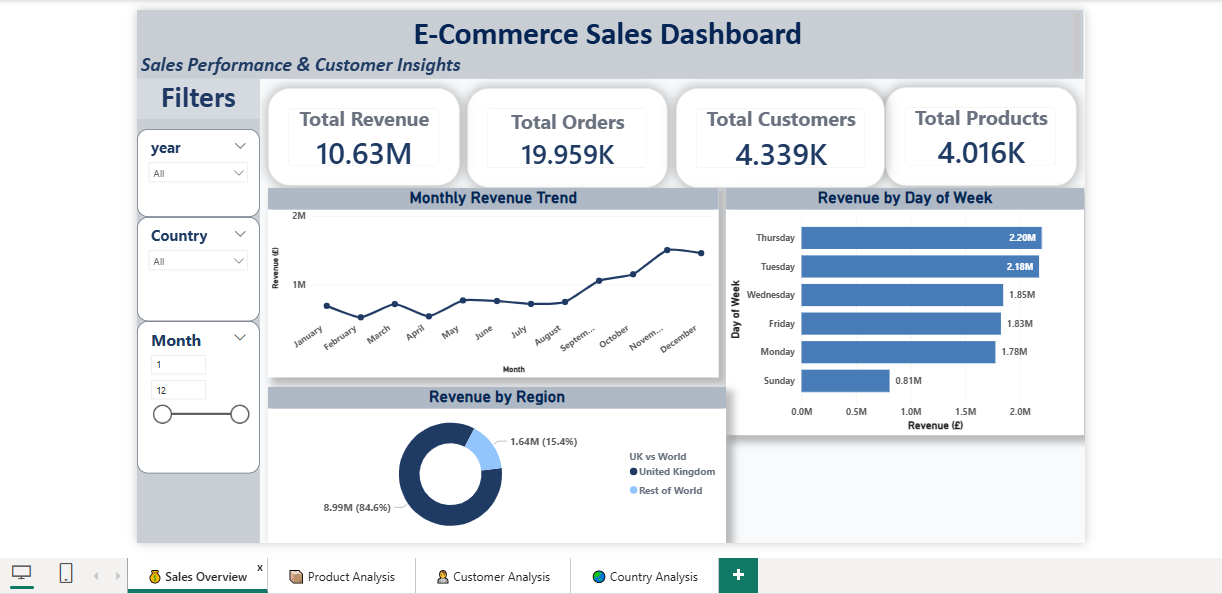

This screenshot's page, from the dashboard's own definition file:
{"tool":"powerbi","page":{"name":"💰 Sales Overview","canvas":[1280,720],"ordinal":0},"visuals":[{"type":"cardVisual","fields":{"Data":["Count(sales dateset.invoiceno)"]},"box":[445.6,105.9,270.6,135.3],"z":0},{"type":"cardVisual","title":"Total Revenue","fields":{"Data":["sales dateset.Total Revenue"]},"box":[176.5,105.9,258.8,132.4],"z":1000},{"type":"cardVisual","fields":{"Data":["Count(sales dateset.description)"]},"box":[1010.3,104.4,258.8,133.8],"z":2000},{"type":"cardVisual","fields":{"Data":["Count(sales dateset.customerid)"]},"box":[727.9,105.9,282.4,135.3],"z":3000},{"type":"lineChart","title":"Monthly Revenue Trend","fields":{"Category":["sales dateset.month_year.Variation.Date Hierarchy.Year","sales dateset.month_year.Variation.Date Hierarchy.Quarter","sales dateset.month_year.Variation.Date Hierarchy.Month"],"Y":["Sum(sales dateset.total_price)"]},"box":[176.5,241.2,608.8,255.9],"z":4000},{"type":"barChart","title":"Revenue by Day of Week","fields":{"Y":["Sum(sales dateset.total_price)"],"Category":["sales dateset.day_of_week"]},"box":[795.6,241.2,483.8,333.8],"z":5000},{"type":"donutChart","title":"Revenue by Region","fields":{"Y":["Sum(sales dateset.total_price)"],"Category":["sales dateset.UK_vs_World"]},"box":[176.5,508.8,619.1,211.8],"z":6000},{"type":"textbox","box":[0,0,1279.4,92.6],"z":7000},{"type":"textbox","title":"Filters","box":[0,92.6,166.2,627.9],"z":8000},{"type":"slicer","fields":{"Values":["sales dateset.year"]},"box":[0,160.3,166.2,119.1],"z":9000},{"type":"slicer","fields":{"Values":["sales dateset.month"]},"box":[0,420.6,166.2,205.9],"z":10000},{"type":"slicer","fields":{"Values":["sales dateset.country"]},"box":[0,279.4,166.2,141.2],"z":11000}]}

Visuals, with their boxes on the page's 1280x720 design canvas (x1, y1, x2, y2). These are canvas units, not pixel positions in the 1222x594 screenshot, which may show the page scaled, cropped or inside an application window:
cardVisual - Count(sales dateset.invoiceno): (x1=446, y1=106, x2=716, y2=241)
"Total Revenue" cardVisual: (x1=176, y1=106, x2=435, y2=238)
cardVisual - Count(sales dateset.description): (x1=1010, y1=104, x2=1269, y2=238)
cardVisual - Count(sales dateset.customerid): (x1=728, y1=106, x2=1010, y2=241)
"Monthly Revenue Trend" lineChart: (x1=176, y1=241, x2=785, y2=497)
"Revenue by Day of Week" barChart: (x1=796, y1=241, x2=1279, y2=575)
"Revenue by Region" donutChart: (x1=176, y1=509, x2=796, y2=721)
textbox: (x1=0, y1=0, x2=1279, y2=93)
"Filters" textbox: (x1=0, y1=93, x2=166, y2=720)
slicer - sales dateset.year: (x1=0, y1=160, x2=166, y2=279)
slicer - sales dateset.month: (x1=0, y1=421, x2=166, y2=626)
slicer - sales dateset.country: (x1=0, y1=279, x2=166, y2=421)
